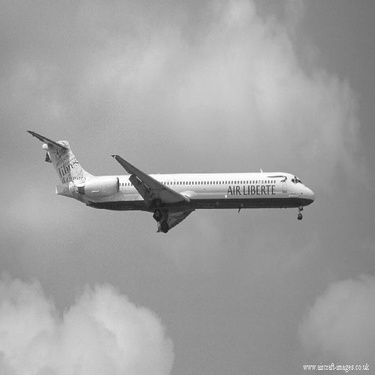airplane: (19, 122, 322, 238)
